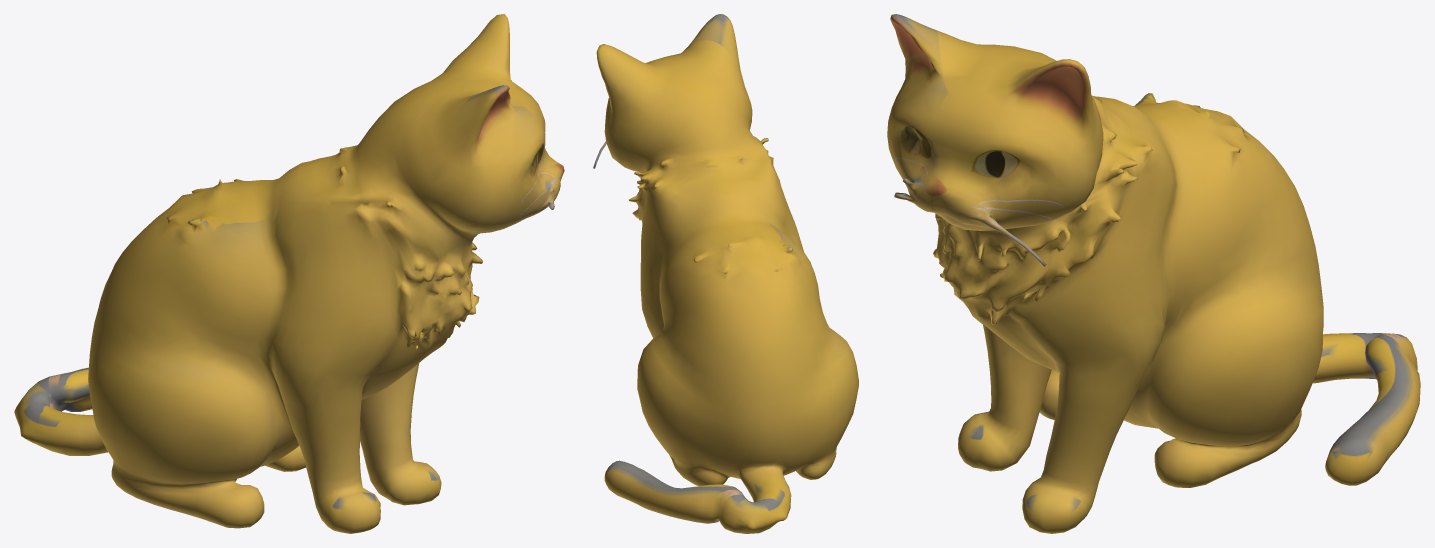
3 renders of one model, left to right at view 1: azimuth 30°, elevation 25°; view 2: azimuth 150°, elevation 25°; view 3: azimuth 270°, elevation 25°, orthographic. The views are drawn at different scales.
Parts seen in each view (by area): view 1: tripo_node_b4dac204; view 2: tripo_node_b4dac204; view 3: tripo_node_b4dac204.
Part boxes in pixels (x1=…): tripo_node_b4dac204: x1=14, y1=14, x2=564, y2=533; tripo_node_b4dac204: x1=593, y1=14, x2=858, y2=533; tripo_node_b4dac204: x1=887, y1=14, x2=1420, y2=533.
Bounding box in the file's own units: 0.8686 × 0.9989 × 0.9225.
